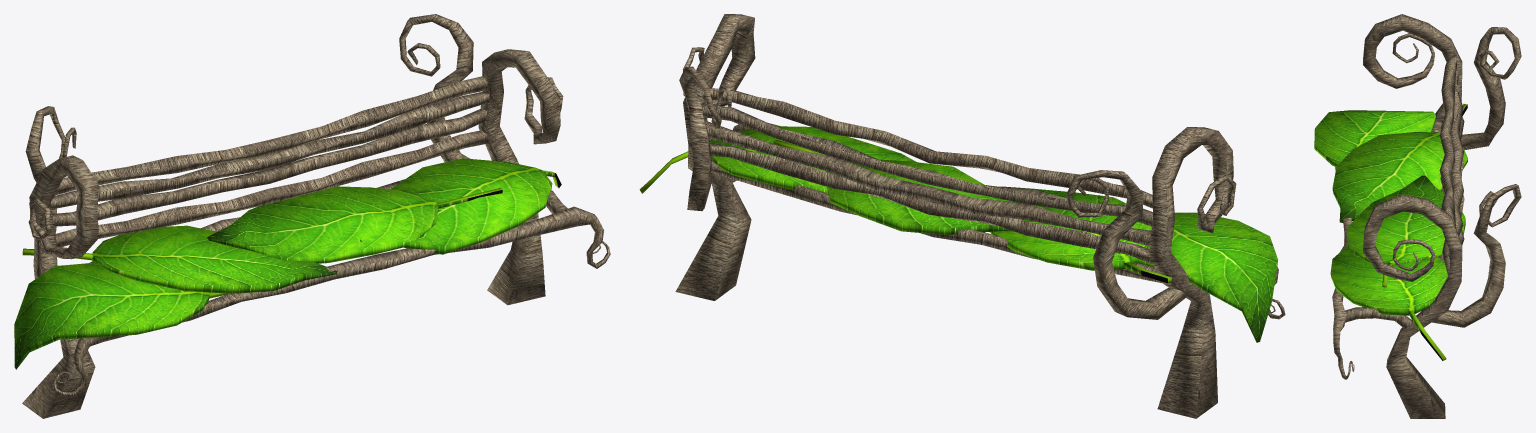
The model's file is fairy-bench.fbx.
3 views of the same model, side by side, from view 1: azimuth 30°, elevation 25°; view 2: azimuth 150°, elevation 25°; view 3: azimuth 270°, elevation 25° (orthographic). The views are drawn at different scales.
Parts seen in each view (by area): view 1: wood, leaves; view 2: wood, leaves; view 3: wood, leaves.
Boxes of the visible parts, left/top/right/bottom form: wood: left=22, top=14, right=610, bottom=418; leaves: left=14, top=158, right=561, bottom=369; wood: left=675, top=14, right=1285, bottom=418; leaves: left=639, top=126, right=1277, bottom=342; wood: left=1332, top=14, right=1521, bottom=418; leaves: left=1314, top=104, right=1467, bottom=360.
Bounding box in the file's own units: 264 × 112 × 99.94.
2 materials, 2 textured.
